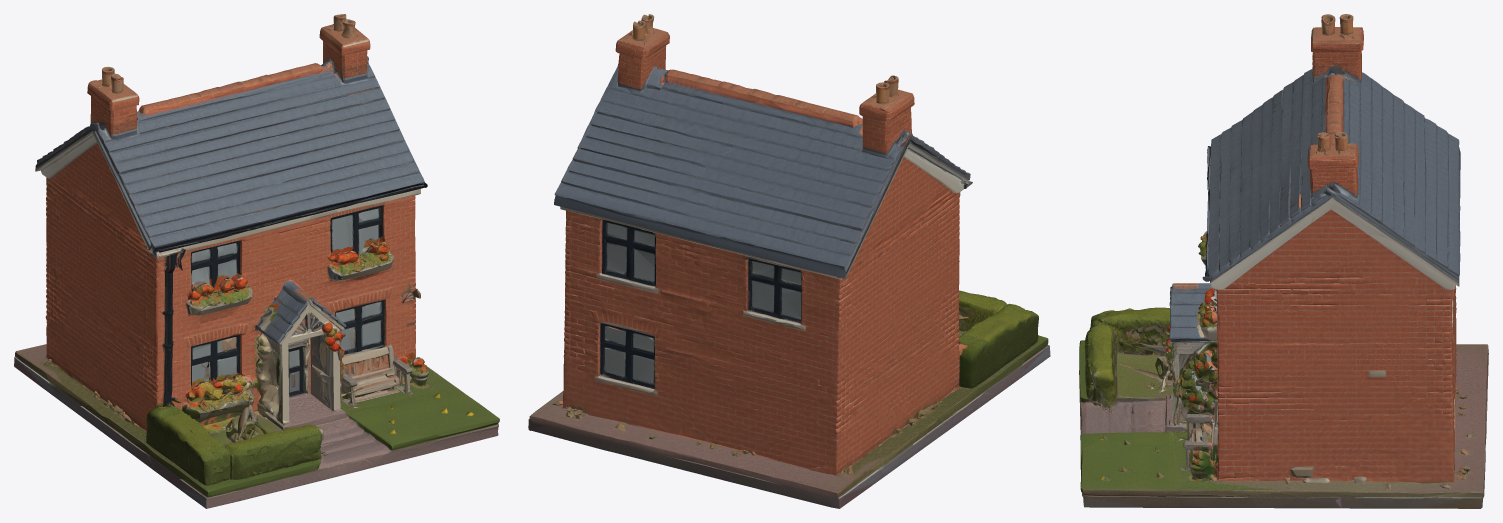
File: building_small_a.glb
3 renders of one model, left to right at view 1: azimuth 30°, elevation 25°; view 2: azimuth 150°, elevation 25°; view 3: azimuth 270°, elevation 25°, orthographic. The views are drawn at different scales.
Visible parts, largest first — view 1: output_unwrapped; view 2: output_unwrapped; view 3: output_unwrapped.
Boxes of the visible parts, <box> form: output_unwrapped: <box>14,14,499,508</box>; output_unwrapped: <box>528,14,1050,508</box>; output_unwrapped: <box>1079,14,1488,508</box>.
Size of the model in its own units: 1.65 by 1.82 by 1.89.
Materials: 1 (1 with a texture image).
